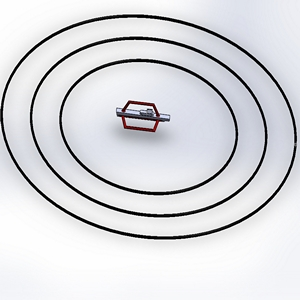circle: (1, 9, 299, 247)
submarine: (110, 92, 177, 142)
